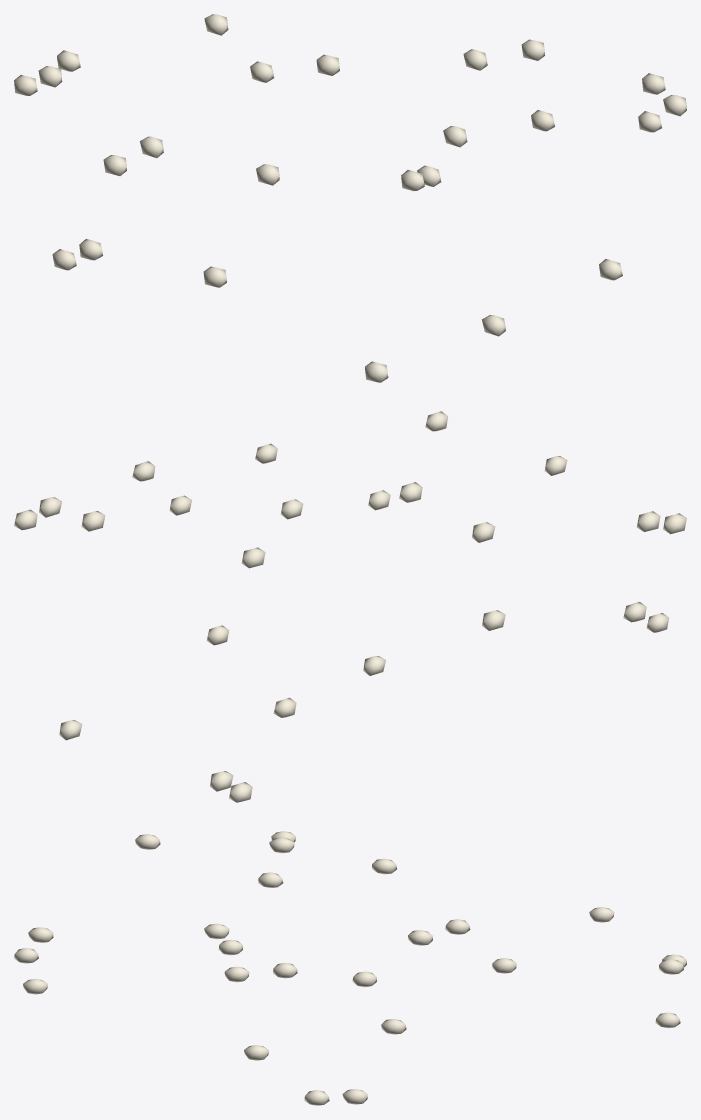
The model's file is sides-onion-chili-large.glb.
The picture shows the model from 3 angles, top to bottom: view 1: azimuth 30°, elevation 25°; view 2: azimuth 150°, elevation 25°; view 3: azimuth 270°, elevation 25°; orthographic projection. The views are drawn at different scales.
Visible parts, largest first — view 1: Fresh chopped onion; view 2: Fresh chopped onion; view 3: Fresh chopped onion.
Part boxes in pixels (box(x1,y1,x2,y2)): Fresh chopped onion: box(14, 14, 686, 382); Fresh chopped onion: box(14, 411, 686, 802); Fresh chopped onion: box(14, 831, 686, 1105).
Size of the model in its own units: 1.52 by 0.276 by 1.69.
